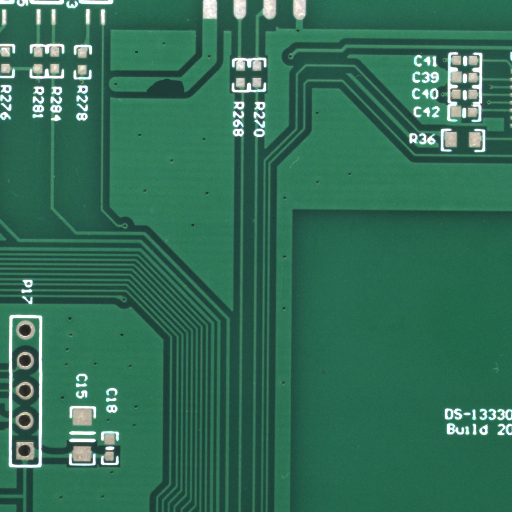Mouse_bite: (167, 87, 211, 111)
